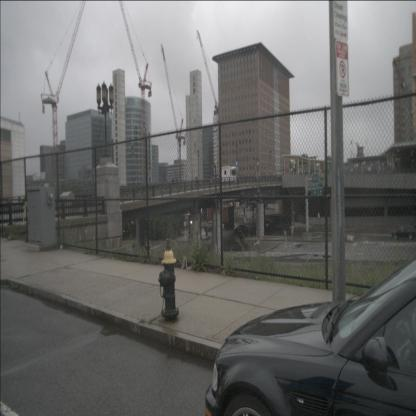vehicle-car: (204, 253, 415, 415), (391, 223, 416, 241), (204, 220, 215, 232), (236, 224, 248, 234)
vehicle-truck: (203, 206, 234, 229), (221, 166, 240, 182)
